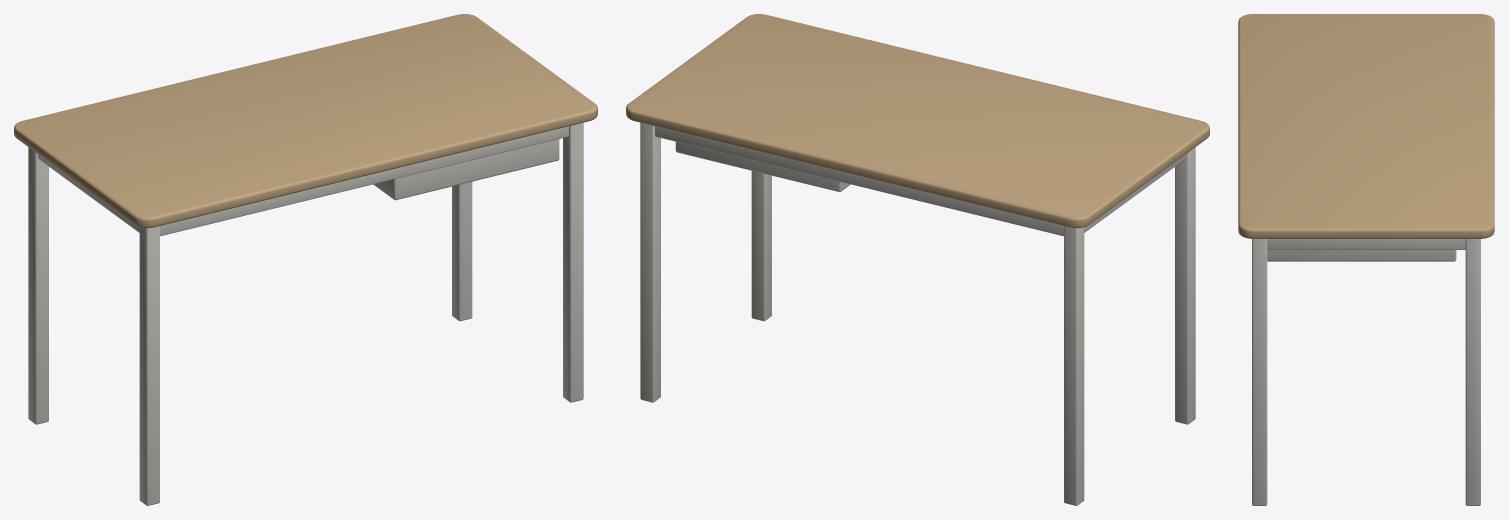
The model's file is desk.glb.
3 renders of one model, left to right at view 1: azimuth 30°, elevation 25°; view 2: azimuth 150°, elevation 25°; view 3: azimuth 270°, elevation 25°, orthographic. The views are drawn at different scales.
Visible parts, largest first — view 1: top, leg0, leg1, leg2, rail1, drawer, leg3; view 2: top, leg2, leg3, leg0, rail0, leg1, drawer; view 3: top, leg1, leg3, drawer, rail_s1.
Part boxes in pixels (box(x1,y1,x2,y2)): top: box(14, 14, 597, 228); leg0: box(139, 226, 159, 505); leg1: box(563, 122, 583, 402); leg2: box(28, 147, 48, 424); rail1: box(160, 126, 568, 236); drawer: box(373, 139, 559, 200); leg3: box(452, 181, 472, 321); top: box(626, 14, 1209, 228); leg2: box(1064, 226, 1084, 505); leg3: box(640, 122, 660, 402); leg0: box(1175, 147, 1195, 424); rail0: box(655, 126, 1063, 236); leg1: box(751, 171, 771, 321); drawer: box(675, 142, 850, 191); top: box(1238, 14, 1494, 238); leg1: box(1252, 239, 1267, 505); leg3: box(1465, 239, 1480, 505); drawer: box(1267, 250, 1456, 261); rail_s1: box(1267, 239, 1465, 249).
Bounding box in the file's own units: 1.2 × 0.73 × 0.6.
